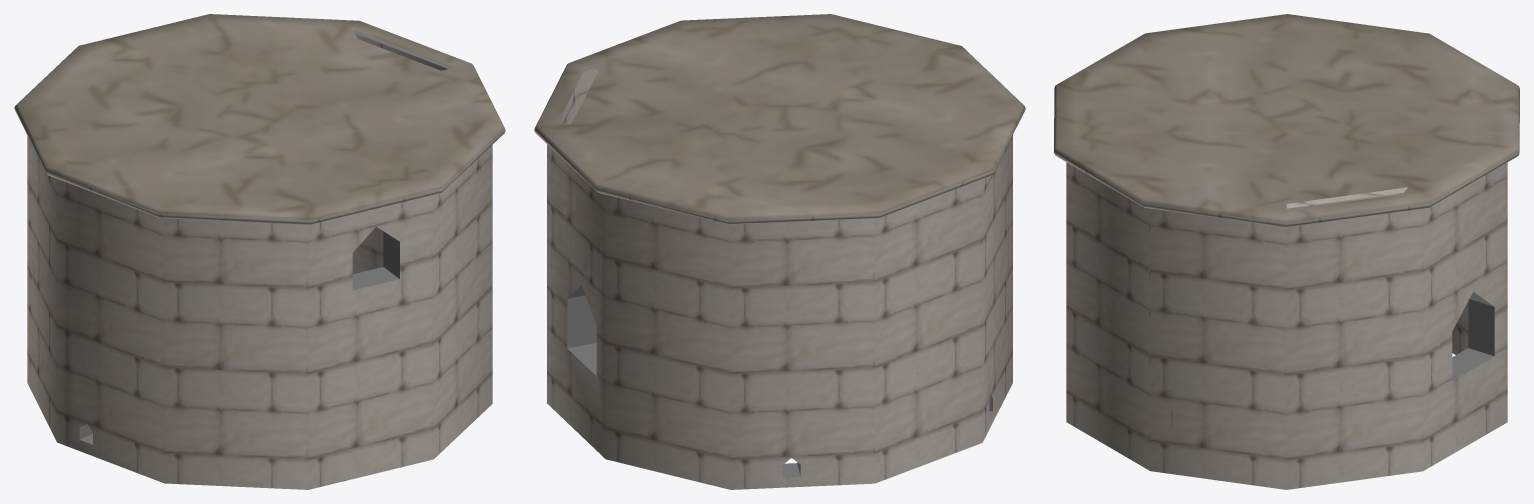
Rendered from tower_F3Collider.fbx.
3 renders of one model, left to right at view 1: azimuth 30°, elevation 25°; view 2: azimuth 150°, elevation 25°; view 3: azimuth 270°, elevation 25°, orthographic.
Parts seen in each view (by area): view 1: floor3_collider; view 2: floor3_collider; view 3: floor3_collider.
Part boxes in pixels (left/top/right/bottom): floor3_collider: left=14, top=14, right=505, bottom=489; floor3_collider: left=534, top=14, right=1025, bottom=489; floor3_collider: left=1054, top=14, right=1519, bottom=489.
Size of the model in its own units: 4972 by 3089 by 4731.
